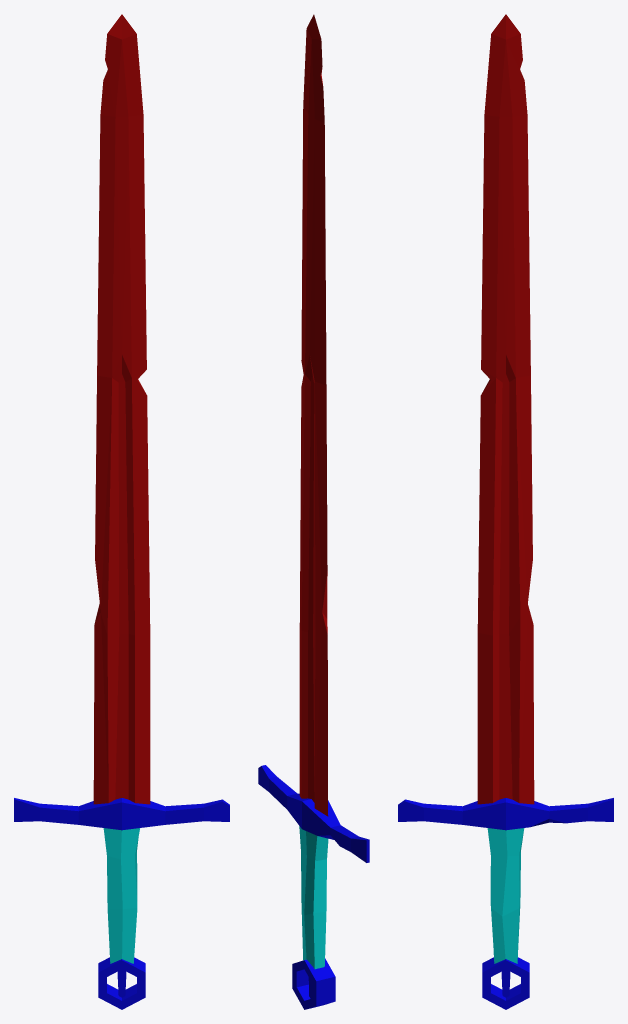
File: Sword_Common_Longsword.fbx
3 renders of one model, left to right at view 1: azimuth 90°, elevation 25°; view 2: azimuth 210°, elevation 25°; view 3: azimuth 270°, elevation 25°, orthographic.
Visible parts, largest first — view 1: SM_Wep_Sword_04; view 2: SM_Wep_Sword_04; view 3: SM_Wep_Sword_04.
Boxes of the visible parts, x1,y1,x2,y2 form: SM_Wep_Sword_04: (14,14,229,1009); SM_Wep_Sword_04: (258,14,369,1009); SM_Wep_Sword_04: (398,14,613,1009).
Bounding box in the file's own units: 3.83 × 152 × 29.97.
